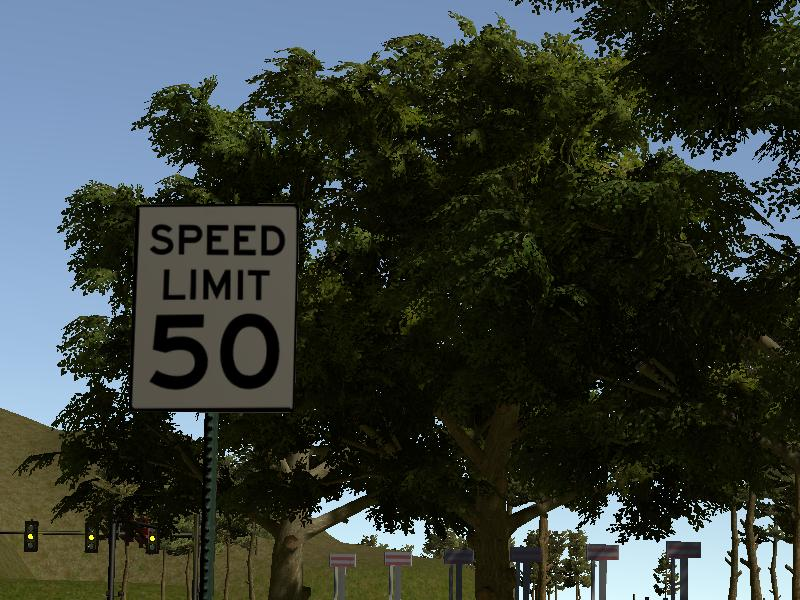Yellow: (22, 521, 38, 553), (85, 520, 98, 554)
